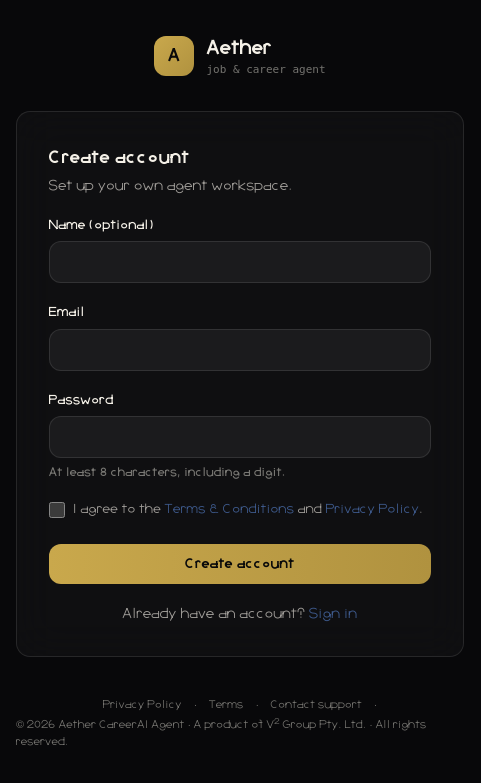
SignupPage › shows an honest 409 message on a duplicate email and does not attempt login
Type "dup@example.com" into the field labelled "Email" at (240, 350), box x1=49 y1=328 x2=431 y2=370
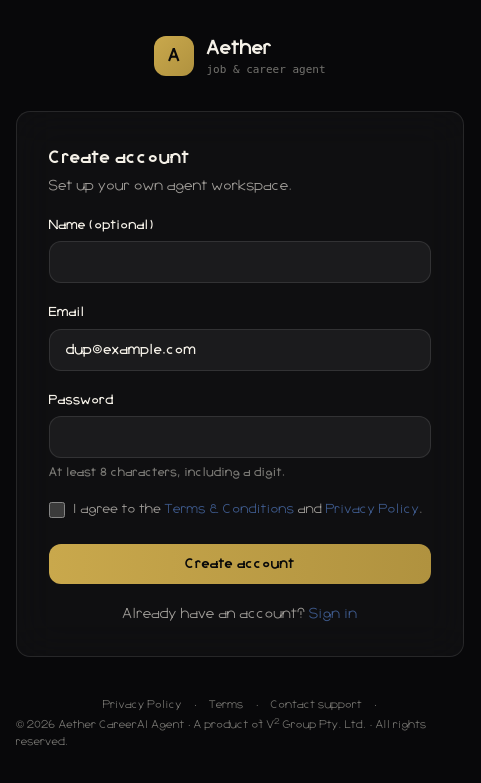
Type "abcdefg1" into the password field labelled "Password" at (240, 437), box x1=49 y1=416 x2=431 y2=458
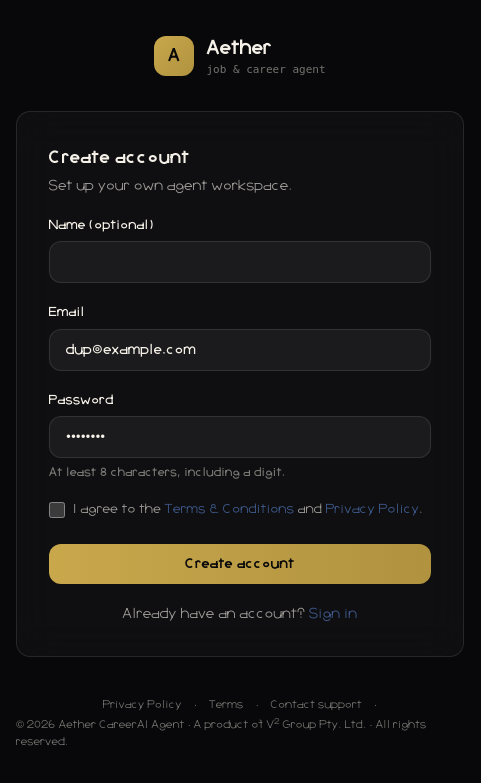
Click the checkbox labelled "I agree to the Terms & Conditions and Privacy Policy ." at (57, 510), box x1=49 y1=502 x2=65 y2=518
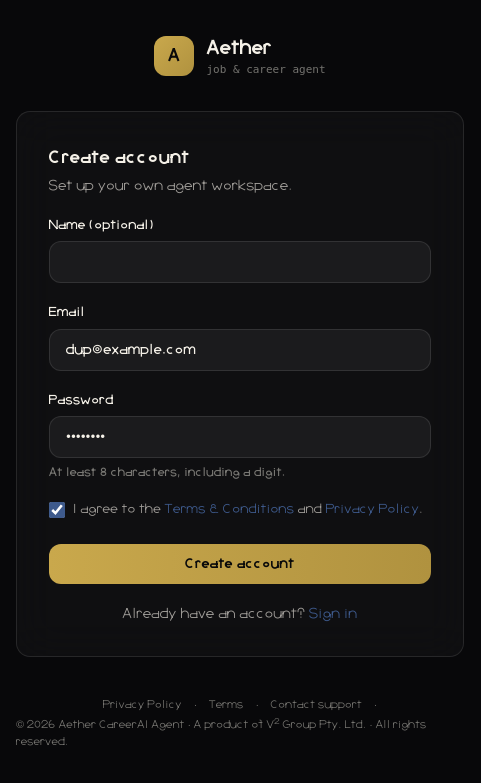
Click the button "Create account" at (240, 564), box x1=49 y1=544 x2=431 y2=584
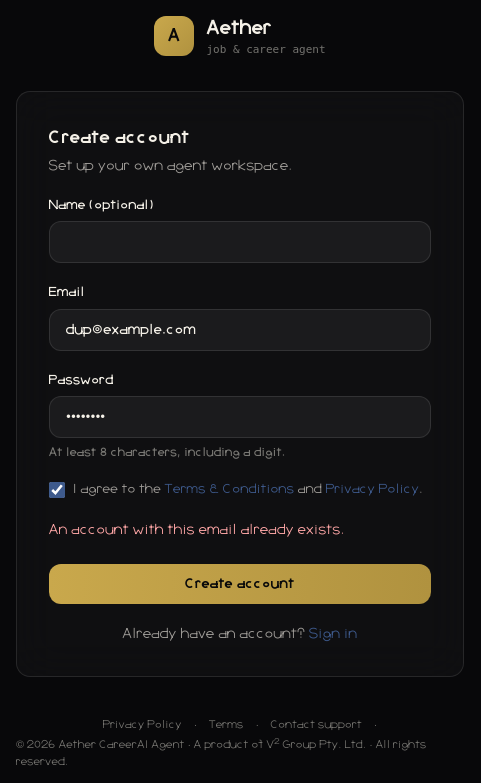
Expected: the message with test id "signup-error" shows "already exists", x1=49 y1=522 x2=345 y2=536
